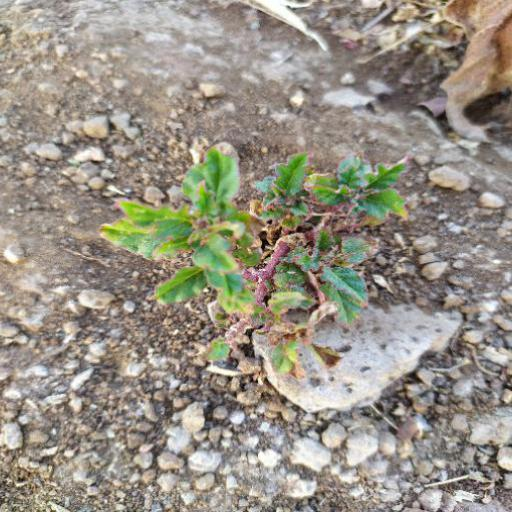weed: (103, 146, 410, 404)
